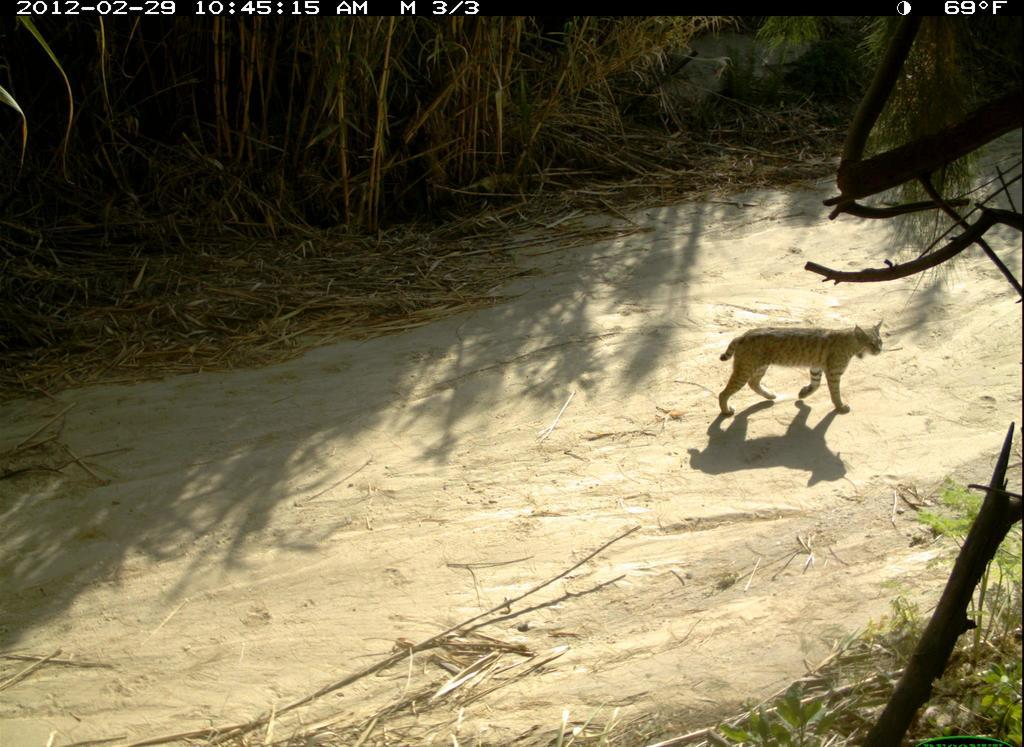bobcat: (716, 315, 900, 425)
